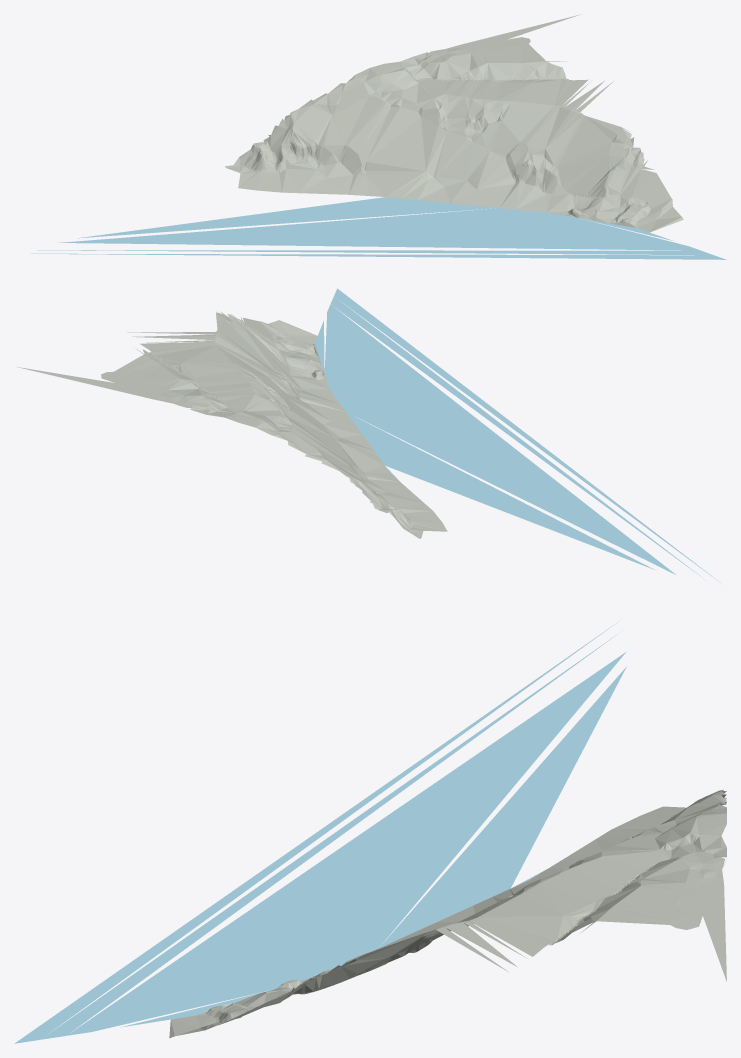
Rendered from terrain-context-C-x-1-z-3.glb.
The picture shows the model from 3 angles, top to bottom: view 1: azimuth 30°, elevation 25°; view 2: azimuth 150°, elevation 25°; view 3: azimuth 270°, elevation 25°; orthographic projection. The views are drawn at different scales.
Parts seen in each view (by area): view 1: C-x-1-z-3; view 2: C-x-1-z-3; view 3: C-x-1-z-3.
Part boxes in pixels (x1,y1,x2,y2): C-x-1-z-3: [31, 14, 726, 259]; C-x-1-z-3: [17, 288, 720, 582]; C-x-1-z-3: [14, 621, 726, 1043].
Size of the model in its own units: 207 by 23.71 by 128.
